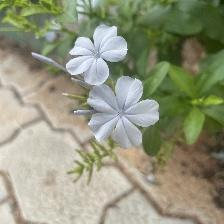chitrak: (83, 84, 165, 149), (68, 23, 126, 80)
